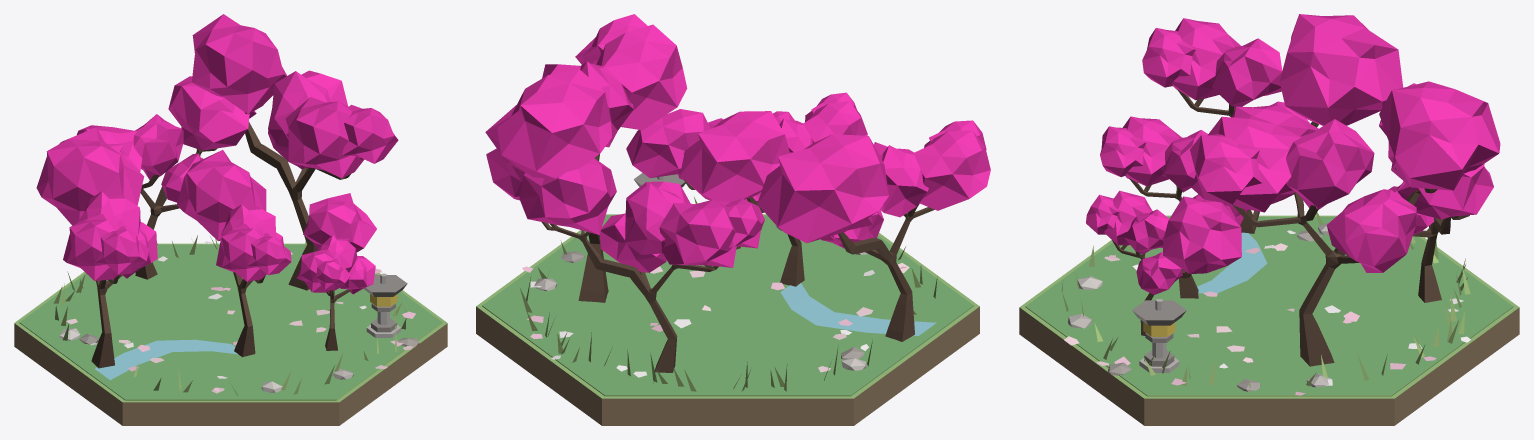
The model's file is sakura tree forest.glb.
The picture shows the model from 3 angles, left to right: view 1: azimuth 30°, elevation 25°; view 2: azimuth 150°, elevation 25°; view 3: azimuth 270°, elevation 25°; orthographic projection. The views are drawn at different scales.
Visible parts, largest first — view 1: GrassTerrain, HexBase, Icosphere.005, Icosphere.010, Icosphere.020, Icosphere.007, Icosphere, Icosphere.008, Icosphere.015, Icosphere.006, Icosphere.003, Cube.001 (+19 smaller); view 2: GrassTerrain, HexBase, Icosphere.010, Icosphere.005, Icosphere.020, Icosphere.007, Icosphere, Icosphere.012, Icosphere.002, Icosphere.015, Icosphere.003, Cube (+14 smaller); view 3: GrassTerrain, HexBase, Icosphere.010, Icosphere.005, Icosphere.008, Icosphere.009, Icosphere.015, Icosphere.007, Icosphere.006, Cube.001, Icosphere.013, Icosphere.012 (+15 smaller).
Boxes of the visible parts, bbox=[...] form: GrassTerrain: bbox=[19, 244, 442, 400]; HexBase: bbox=[14, 243, 447, 425]; Icosphere.005: bbox=[192, 14, 286, 114]; Icosphere.010: bbox=[36, 127, 144, 225]; Icosphere.020: bbox=[177, 150, 266, 241]; Icosphere.007: bbox=[285, 97, 364, 178]; Icosphere: bbox=[168, 76, 256, 150]; Icosphere.008: bbox=[268, 70, 347, 147]; Icosphere.015: bbox=[303, 193, 376, 252]; Icosphere.006: bbox=[338, 104, 398, 163]; Icosphere.003: bbox=[133, 114, 183, 179]; Cube.001: bbox=[244, 102, 362, 290]; GrassTerrain: bbox=[482, 215, 973, 396]; HexBase: bbox=[476, 214, 979, 425]; Icosphere.010: bbox=[757, 134, 888, 243]; Icosphere.005: bbox=[485, 69, 611, 179]; Icosphere.020: bbox=[680, 111, 789, 201]; Icosphere.007: bbox=[592, 24, 687, 130]; Icosphere: bbox=[519, 158, 616, 234]; Icosphere.012: bbox=[912, 130, 990, 210]; Icosphere.002: bbox=[659, 199, 736, 267]; Icosphere.015: bbox=[626, 109, 710, 177]; Icosphere.003: bbox=[625, 181, 690, 254]; Cube: bbox=[541, 222, 718, 372]; GrassTerrain: bbox=[1025, 217, 1513, 396]; HexBase: bbox=[1019, 215, 1519, 425]; Icosphere.010: bbox=[1279, 14, 1403, 125]; Icosphere.005: bbox=[1379, 81, 1500, 190]; Icosphere.008: bbox=[1286, 119, 1374, 209]; Icosphere.009: bbox=[1326, 189, 1416, 272]; Icosphere.015: bbox=[1163, 196, 1241, 273]; Icosphere.007: bbox=[1208, 115, 1301, 212]; Icosphere.006: bbox=[1190, 134, 1261, 204]; Cube.001: bbox=[1232, 167, 1437, 366]; Icosphere.013: bbox=[1211, 38, 1282, 108]; Icosphere.012: bbox=[1172, 18, 1240, 100].
Size of the model in its own units: 4.76 by 3.17 by 5.
